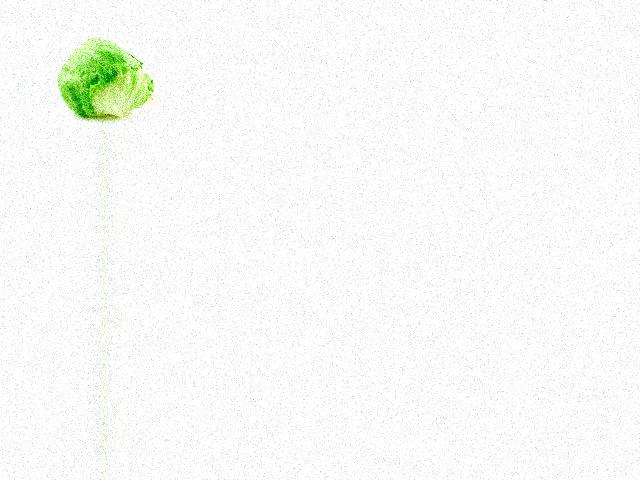lettuce: (54, 35, 153, 118)
